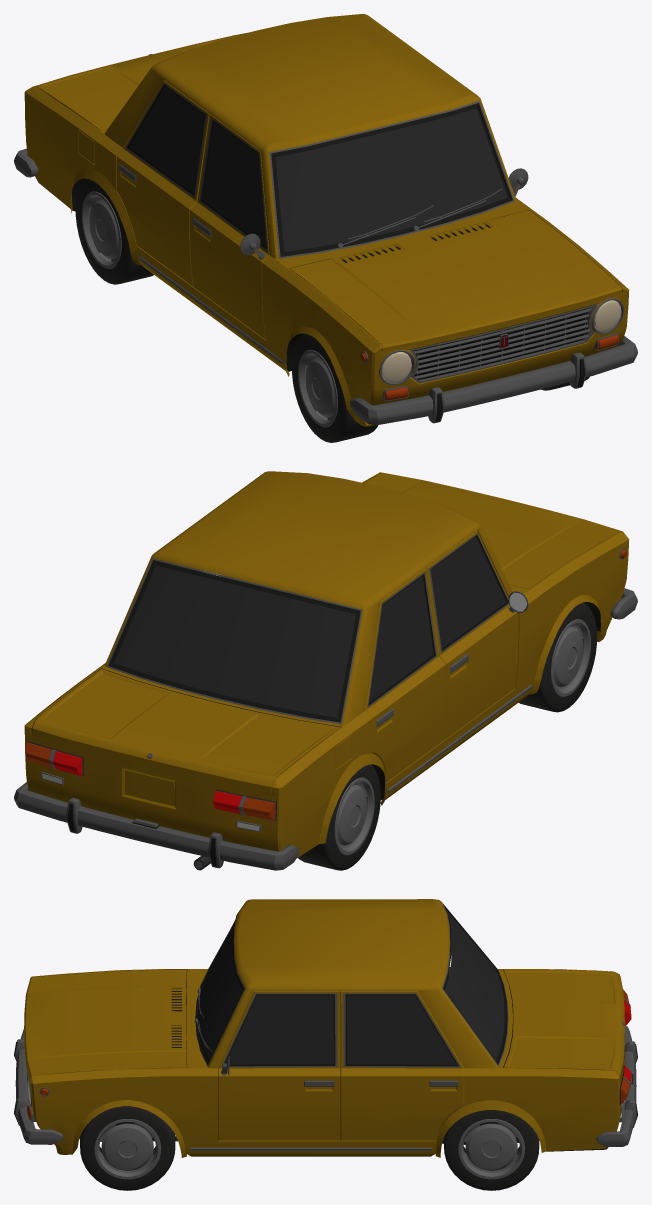
The model's file is car_emektar.glb.
3 views of the same model, one above another, from view 1: azimuth 30°, elevation 25°; view 2: azimuth 150°, elevation 25°; view 3: azimuth 270°, elevation 25° (orthographic). The views are drawn at different scales.
Parts seen in each view (by area): view 1: Object_5, Object_6, Object_17, Object_4, Object_14, Object_15, Object_8, Object_7; view 2: Object_5, Object_6, Object_17, Object_4, Object_15, Object_14, Object_12, Object_9; view 3: Object_5, Object_6, Object_17, Object_14, Object_15, Object_4.
Boxes of the visible parts, x1,y1,x2,y2 form: Object_5: [24, 14, 629, 426]; Object_6: [129, 86, 507, 251]; Object_17: [14, 54, 637, 425]; Object_4: [72, 84, 622, 421]; Object_14: [75, 178, 589, 442]; Object_15: [81, 191, 337, 427]; Object_8: [413, 307, 590, 379]; Object_7: [381, 300, 621, 382]; Object_5: [24, 471, 629, 858]; Object_6: [114, 537, 505, 717]; Object_17: [14, 533, 637, 870]; Object_4: [27, 473, 600, 866]; Object_15: [334, 619, 590, 855]; Object_14: [298, 602, 597, 870]; Object_12: [25, 549, 627, 820]; Object_9: [52, 751, 242, 813]; Object_5: [24, 899, 624, 1157]; Object_6: [198, 910, 504, 1064]; Object_17: [15, 902, 637, 1150]; Object_14: [80, 1106, 539, 1190]; Object_15: [94, 1119, 525, 1179]; Object_4: [14, 904, 637, 1151].
Size of the model in its own units: 1.85 by 1.48 by 4.12.
